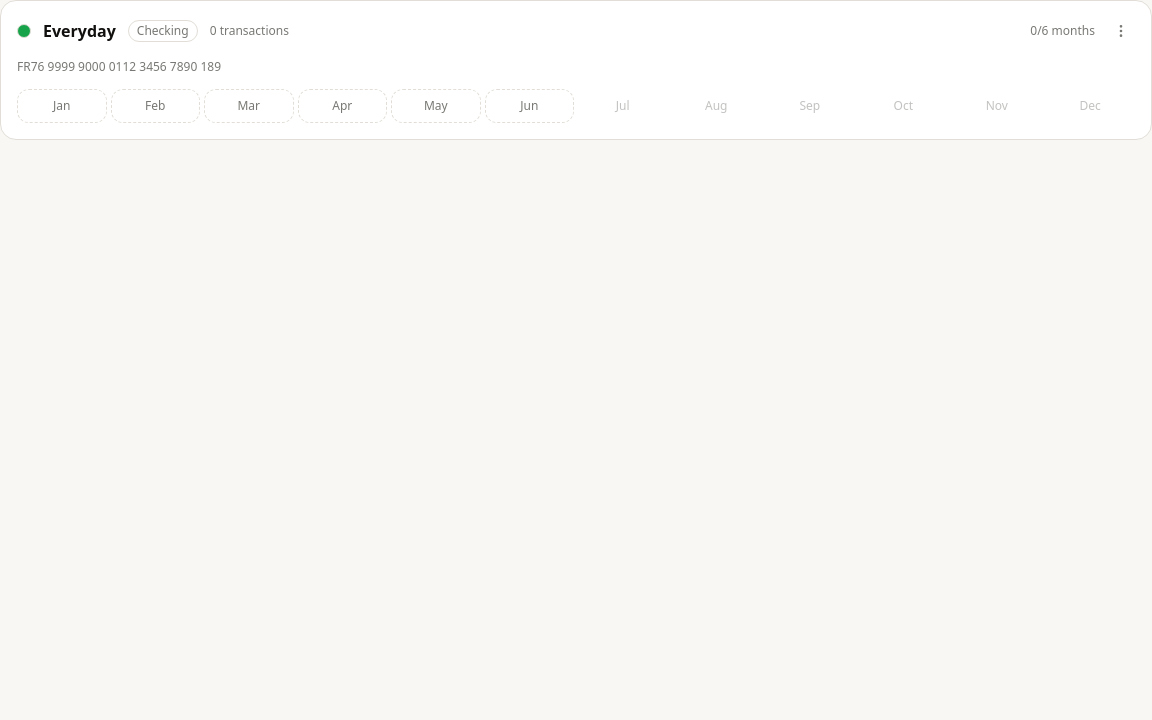
AccountCard › re-seeds a reopened edit from the stored account, not the abandoned draft
The width and height of the screenshot is (1152, 720).
Click the button named "More actions for Everyday". click: (1121, 31)
box: top-left (1107, 17), bottom-right (1135, 45)
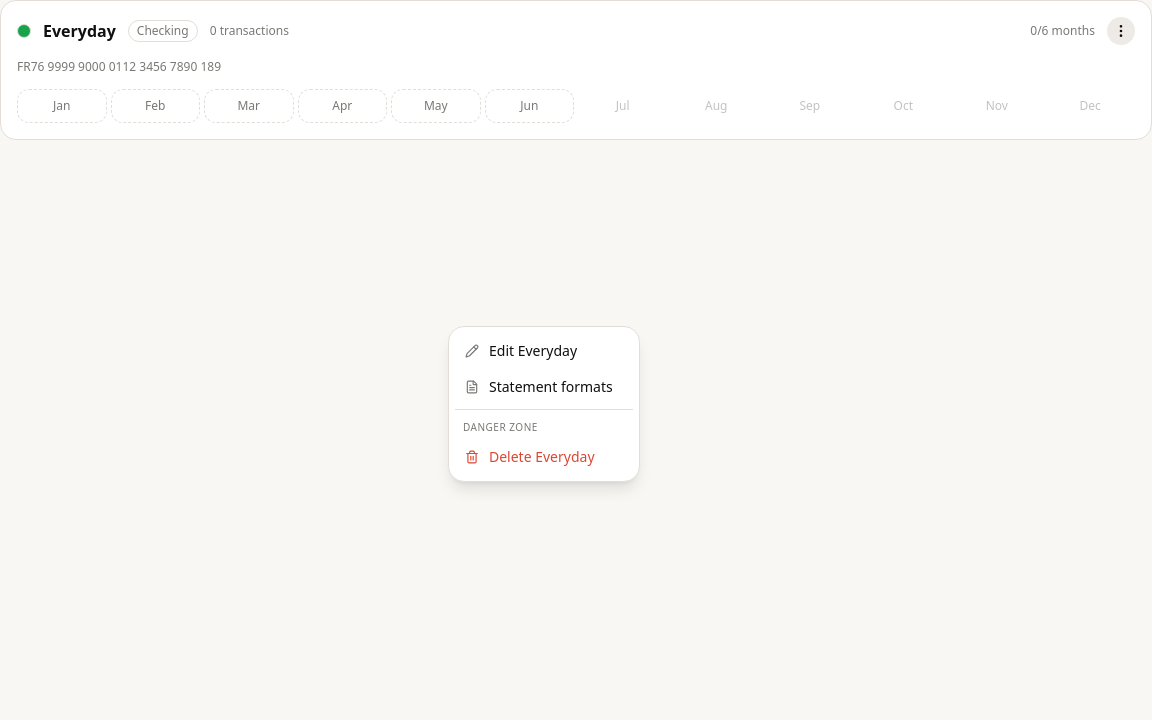
Click the menu item "Edit Everyday". click: (521, 350)
box: top-left (465, 341), bottom-right (577, 360)
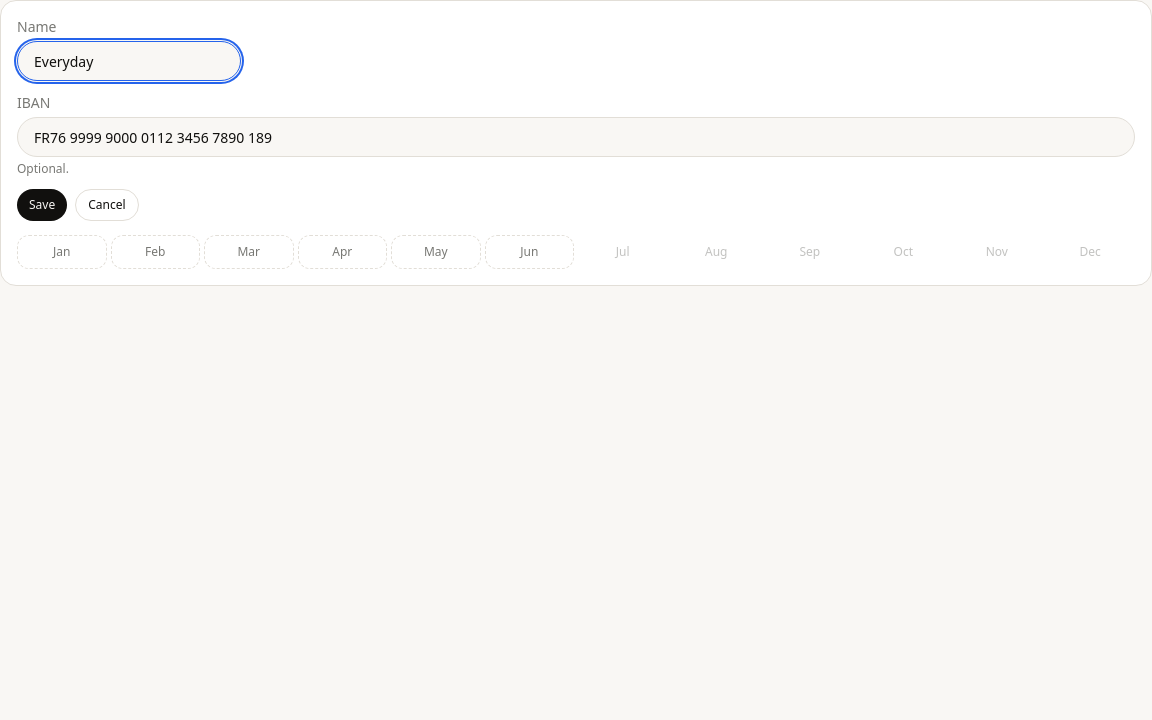
Replace the text in the field named "New account name" with "Abandoned". click: (129, 61)
box: top-left (17, 41), bottom-right (241, 81)
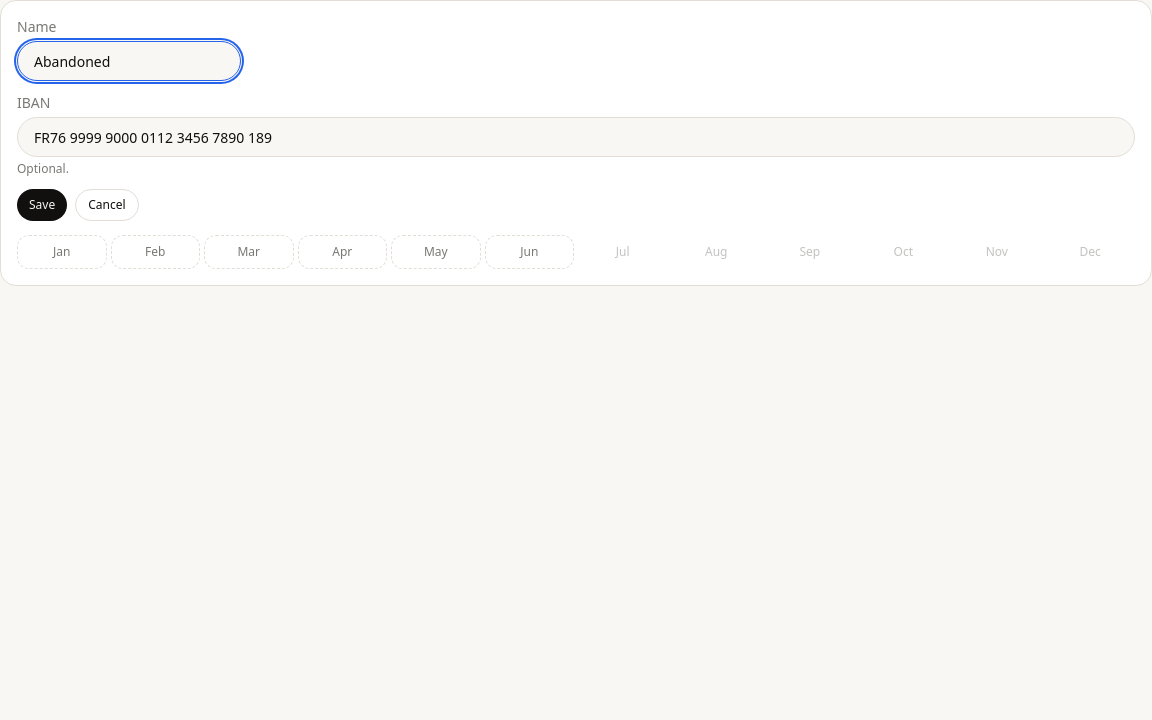
Click the button "Cancel". click: (107, 205)
box: top-left (75, 189), bottom-right (139, 221)
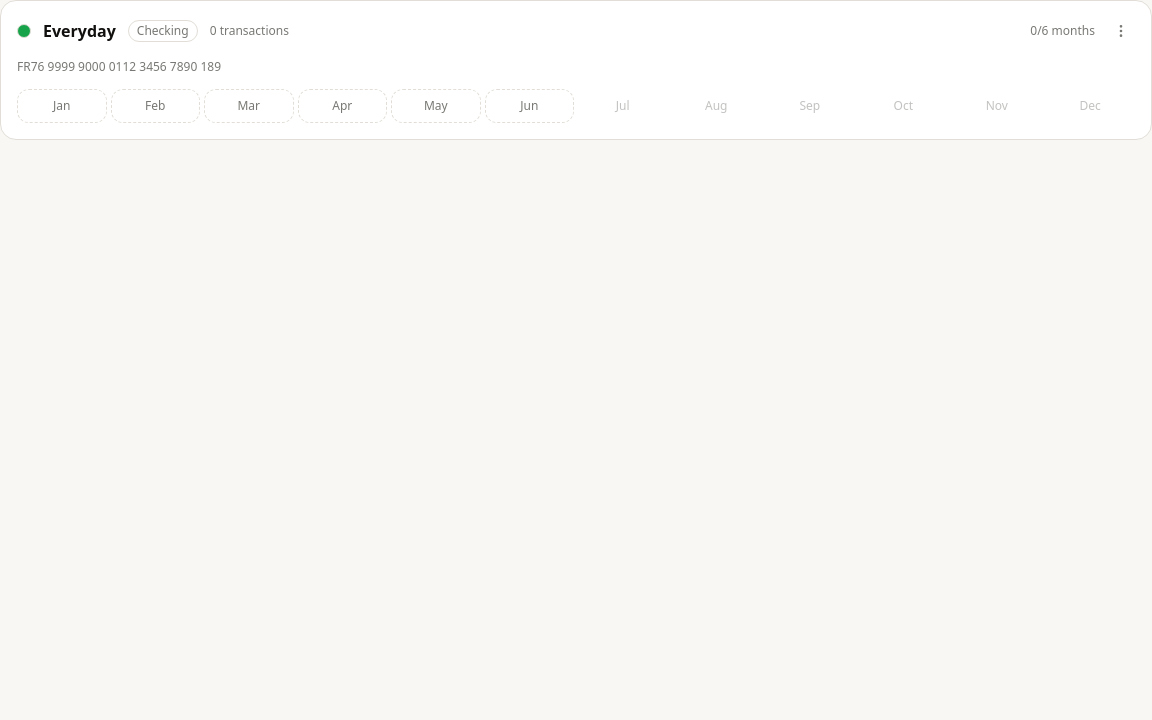
Click the button named "More actions for Everyday". click: (1121, 31)
box: top-left (1107, 17), bottom-right (1135, 45)
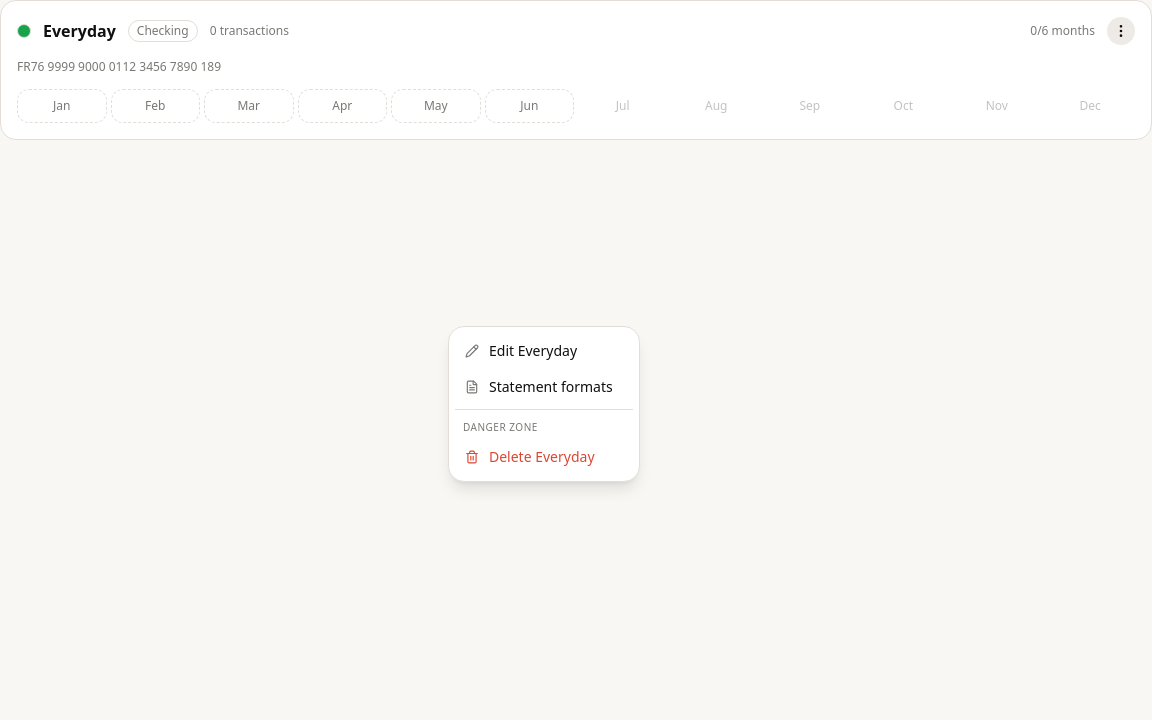
Click the menu item "Edit Everyday". click: (521, 350)
box: top-left (465, 341), bottom-right (577, 360)
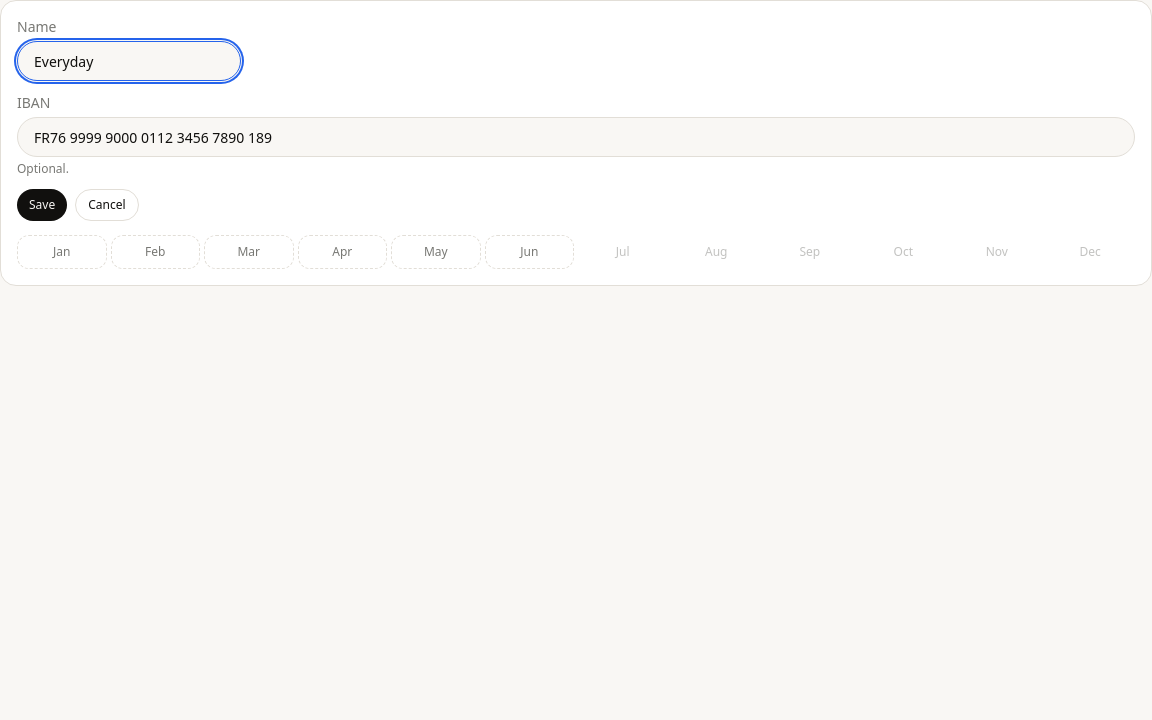
Expected: the field named "New account name" holds "Everyday", top-left (17, 41), bottom-right (241, 81)
Expected: the field named "Account IBAN" holds "FR76 9999 9000 0112 3456 7890 189", top-left (17, 117), bottom-right (1135, 157)
